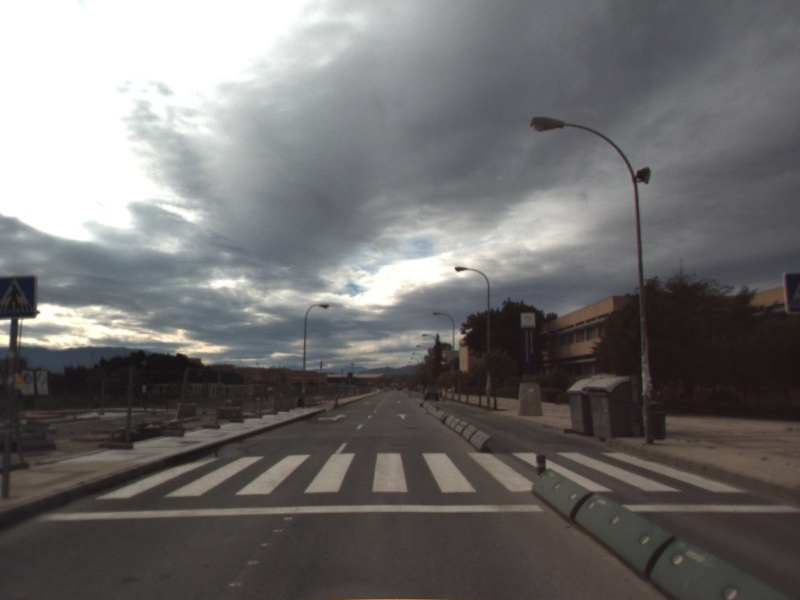STRAIGHT: (394, 411, 411, 421)
STRAIGHT_LEFT: (315, 411, 349, 423)
